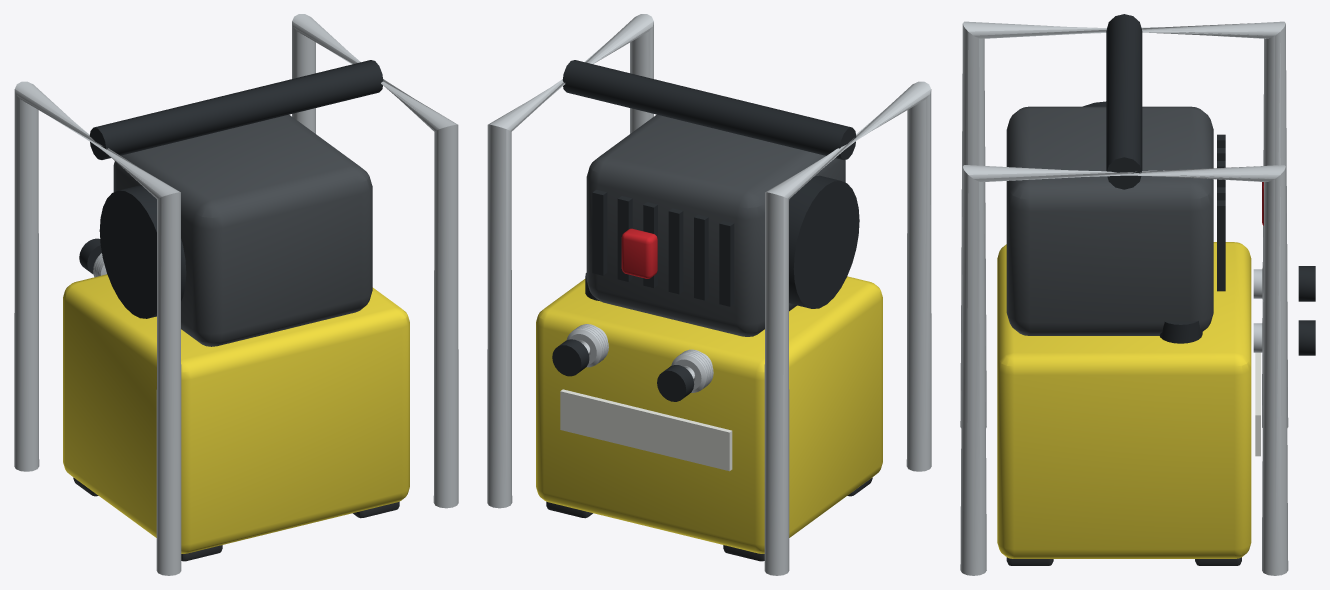
The model's file is hydraulic_powerpack_1.glb.
3 views of the same model, side by side, from view 1: azimuth 30°, elevation 25°; view 2: azimuth 150°, elevation 25°; view 3: azimuth 270°, elevation 25° (orthographic). The views are drawn at different scales.
Visible parts, largest first — view 1: hydraulic_powerpack_1; view 2: hydraulic_powerpack_1; view 3: hydraulic_powerpack_1.
Boxes of the visible parts, left/top/right/bottom form: hydraulic_powerpack_1: left=14, top=14, right=458, bottom=575; hydraulic_powerpack_1: left=487, top=14, right=931, bottom=575; hydraulic_powerpack_1: left=960, top=14, right=1315, bottom=575.
Size of the model in its own units: 0.2857 by 0.3674 by 0.2776.
